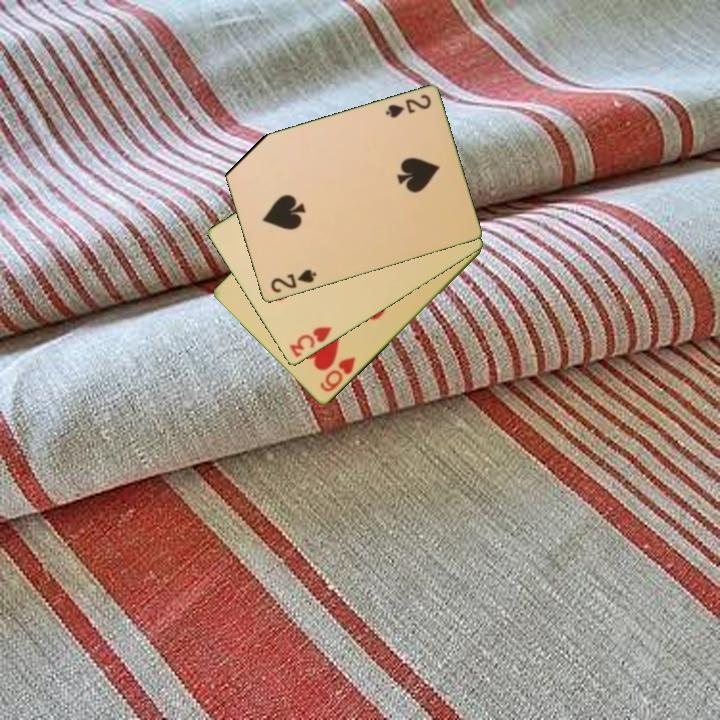2s: (267, 266, 319, 296), (382, 91, 434, 121)
3h: (286, 323, 335, 360)
6h: (316, 354, 359, 395)
